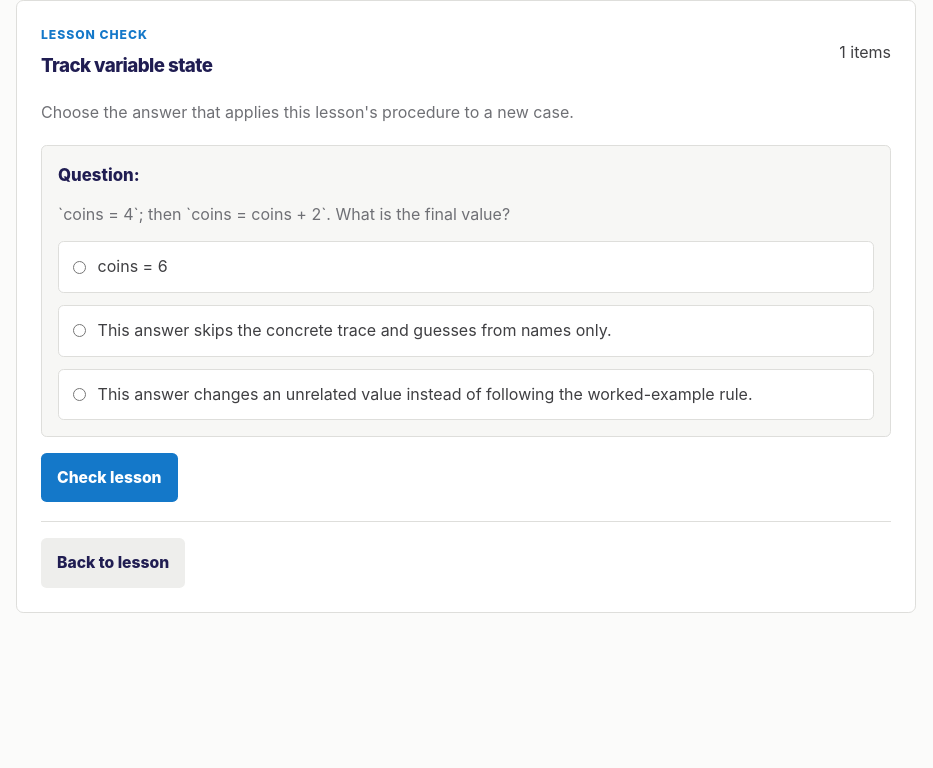
it: PracticeView › passes a lesson check and marks the lesson skill as mastered
What coordinates should you click on to do the following:
click the radio button labelled "coins = 6"
I would click on:
 (80, 267)
Its box is [73,261,86,274].
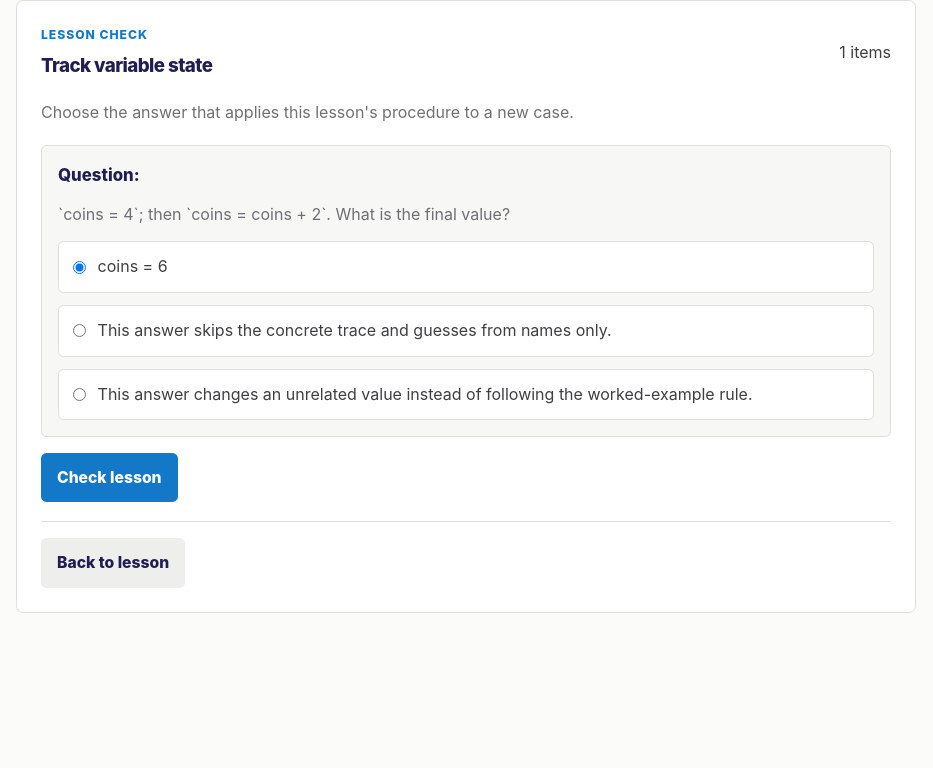
What coordinates should you click on to do the following:
click the button "Check lesson"
I would click on:
 (109, 478)
Its box is [41,453,178,502].
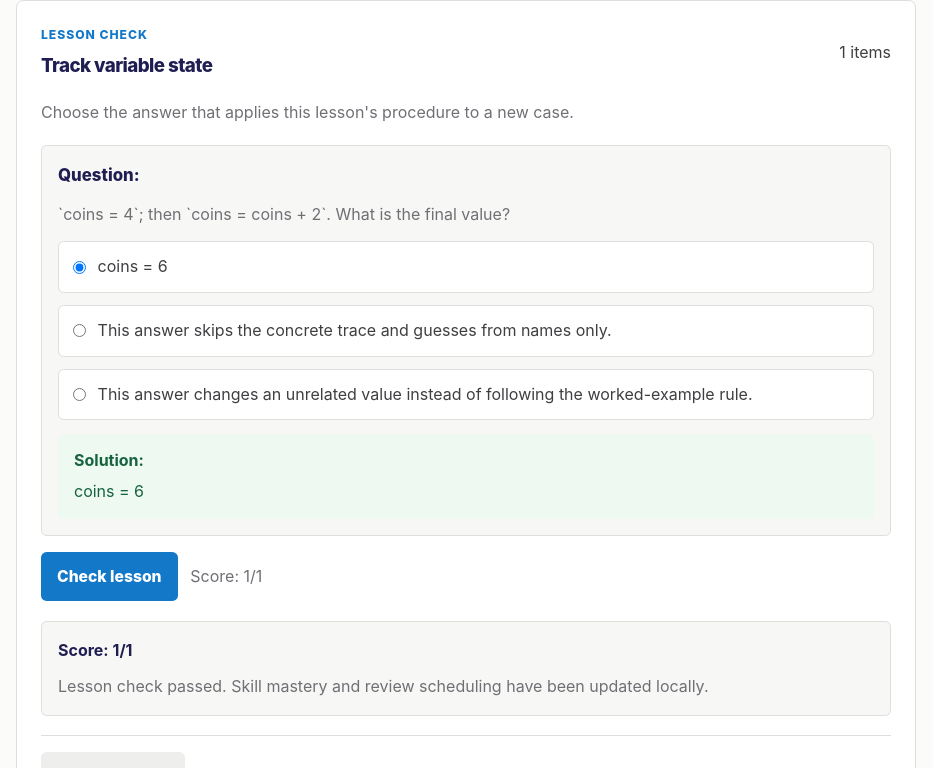
Result: the text "Lesson check passed" is shown at [58,676,708,696]
